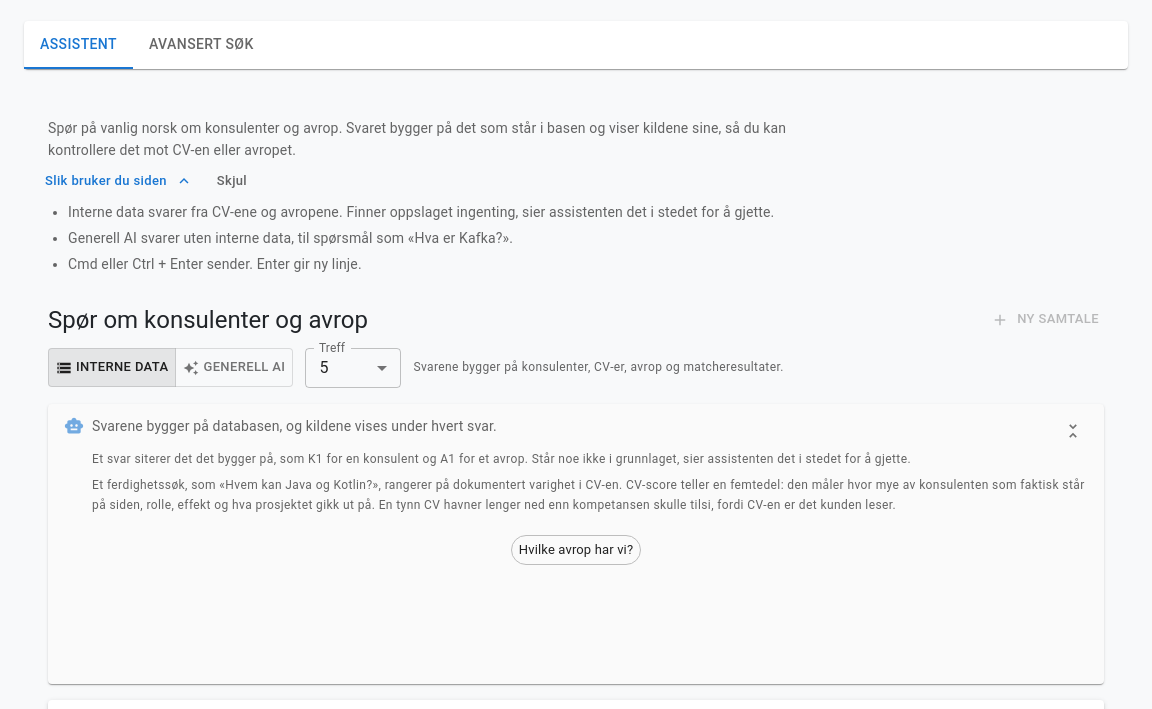
ChatPage › submits Avansert søk and shows a result
Click the tab with test id "ai-search-tab".
click(201, 45)  # box x1=133 y1=21 x2=270 y2=69
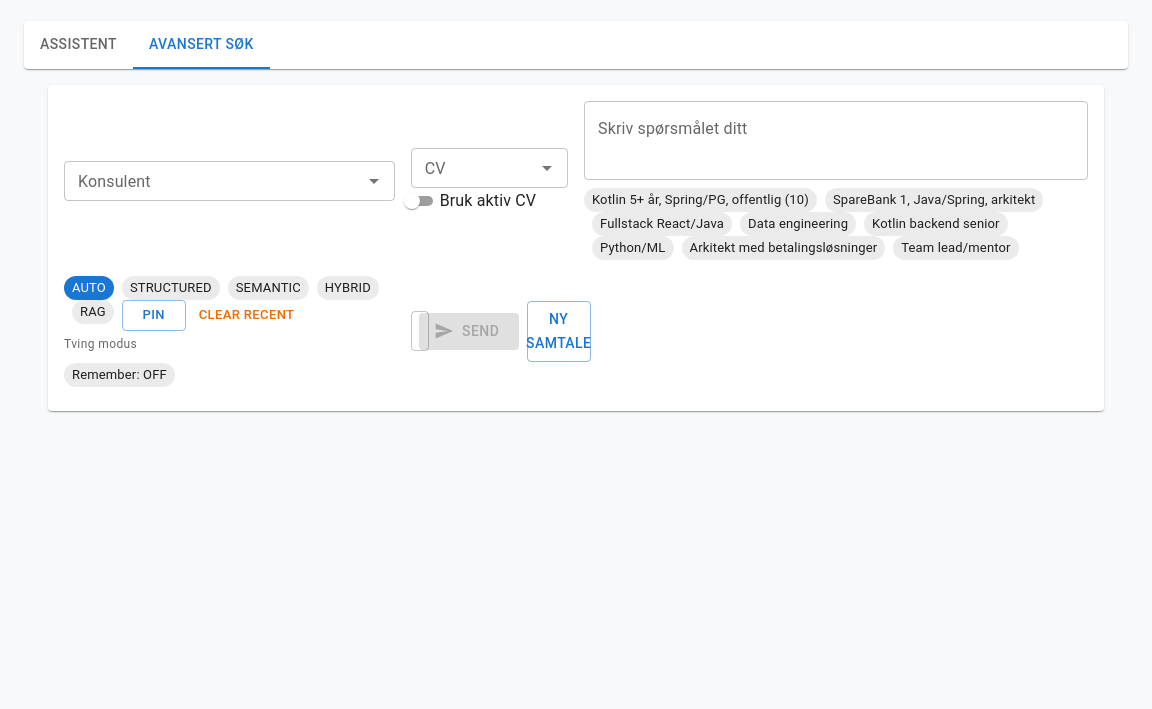
Type "Find consultants who know Kotlin and Spring" into the text box labelled "Skriv spørsmålet ditt".
click(836, 140); type("Find consultants who know Kotlin and Spring")  # box x1=598 y1=118 x2=1074 y2=164
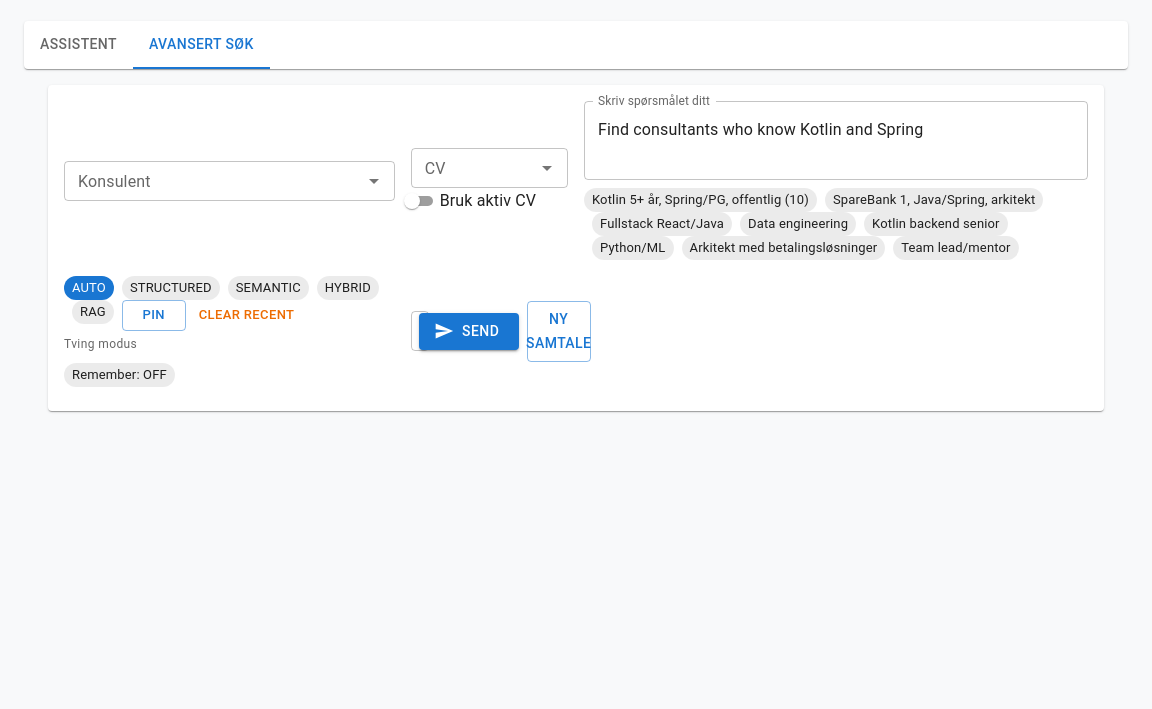
Click the button with test id "send-btn".
click(469, 331)  # box x1=419 y1=313 x2=519 y2=350
(page scrolled)
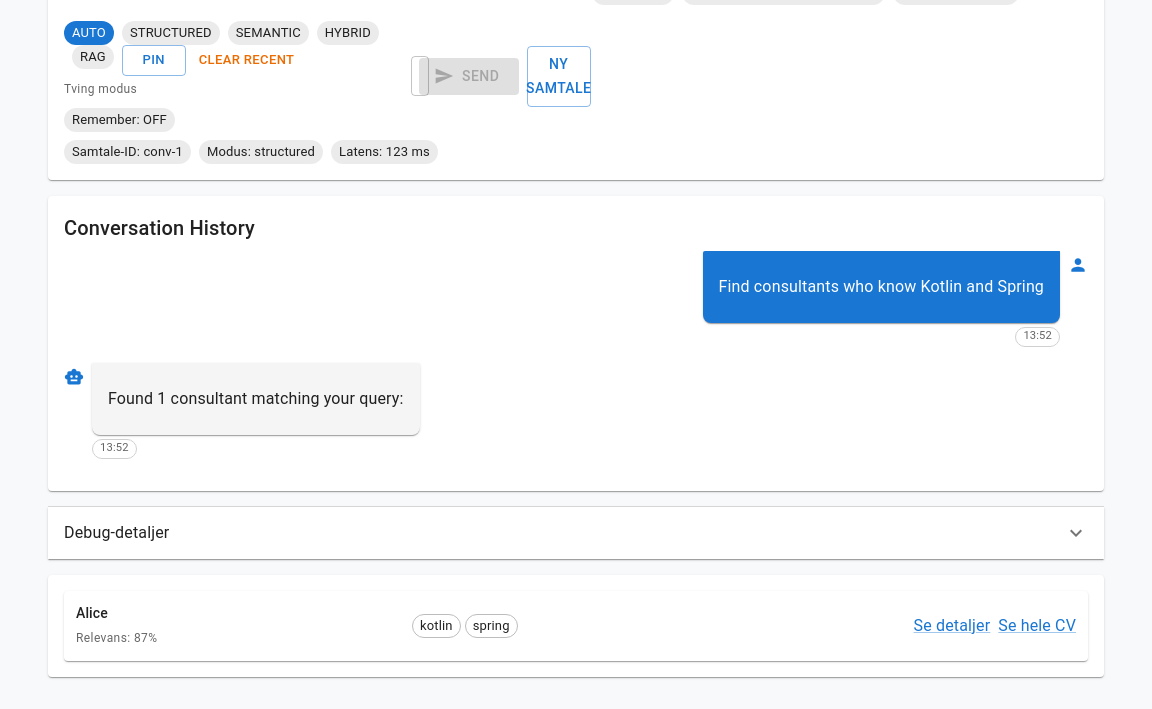
Expected: the heading "Alice" is shown, x1=76 y1=605 x2=108 y2=621
Expected: the text "Relevans: 87%" is shown, x1=76 y1=631 x2=157 y2=645
